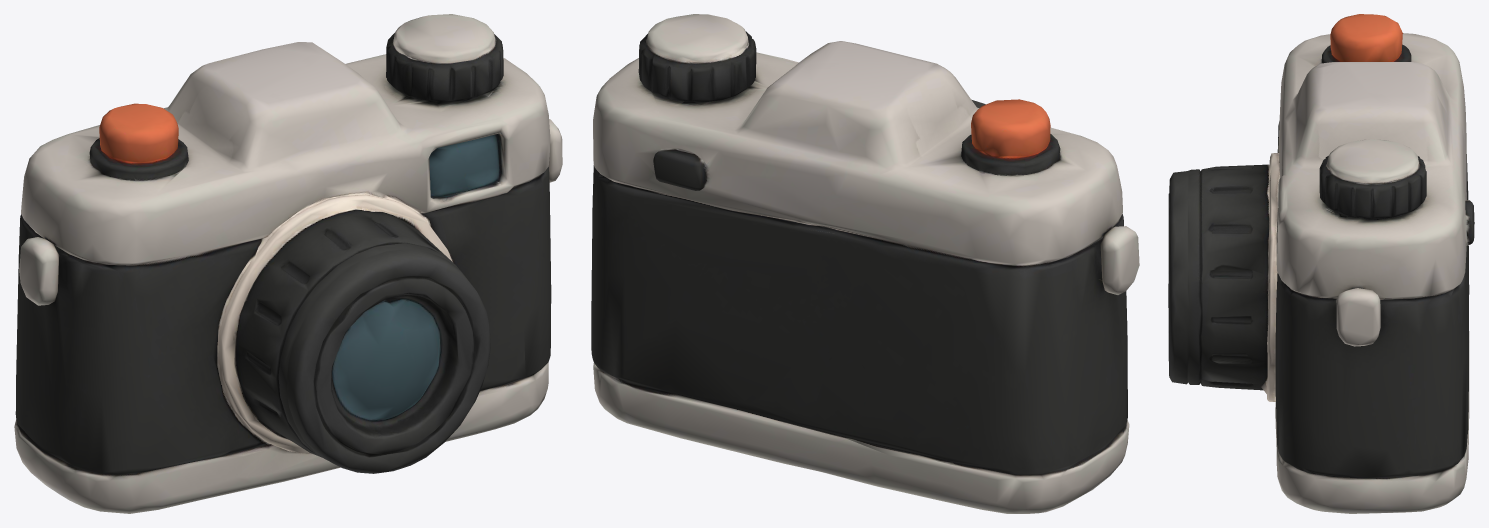
The model's file is camera.glb.
3 views of the same model, side by side, from view 1: azimuth 30°, elevation 25°; view 2: azimuth 150°, elevation 25°; view 3: azimuth 270°, elevation 25° (orthographic). The views are drawn at different scales.
Visible parts, largest first — view 1: tripo_node_02274f00-eb73-40d3-a4a9-a01a11516188; view 2: tripo_node_02274f00-eb73-40d3-a4a9-a01a11516188; view 3: tripo_node_02274f00-eb73-40d3-a4a9-a01a11516188.
Part boxes in pixels (x1,y1,x2,y2): tripo_node_02274f00-eb73-40d3-a4a9-a01a11516188: (14,14,562,513); tripo_node_02274f00-eb73-40d3-a4a9-a01a11516188: (591,14,1139,513); tripo_node_02274f00-eb73-40d3-a4a9-a01a11516188: (1168,14,1474,513).
Bounding box in the file's own units: 0.9774 × 0.6551 × 0.5442.
1 material, 1 textured.
